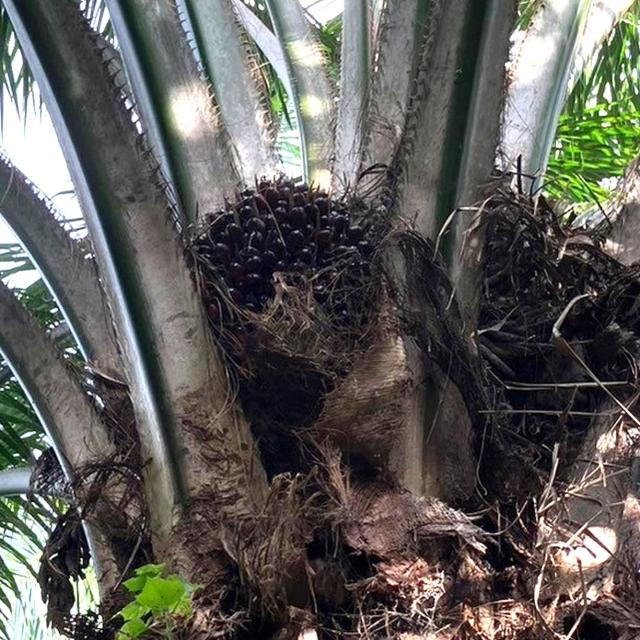ripe: (161, 164, 387, 397)
